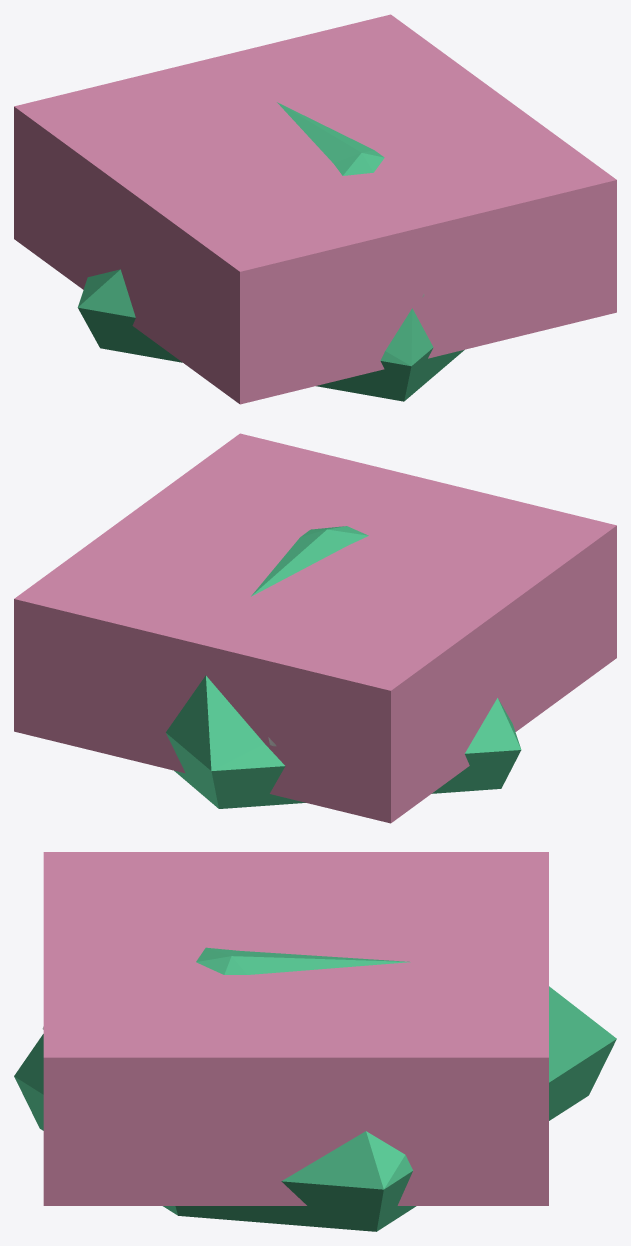
File: rock_01_a_large_c.dae
3 renders of one model, top to bottom at view 1: azimuth 30°, elevation 25°; view 2: azimuth 150°, elevation 25°; view 3: azimuth 270°, elevation 25°, orthographic. The views are drawn at different scales.
Parts seen in each view (by area): view 1: Untitled, Colmesh-1; view 2: Untitled, Colmesh-1; view 3: Untitled, Colmesh-1.
Boxes of the visible parts, box(x1,y1,x2,y2) form: Untitled: box(14, 14, 616, 404); Colmesh-1: box(77, 102, 464, 401); Untitled: box(14, 433, 616, 823); Colmesh-1: box(166, 526, 521, 808); Untitled: box(43, 852, 548, 1205); Colmesh-1: box(14, 947, 616, 1231).
Size of the model in its own units: 1.84 by 1.94 by 0.6974.
